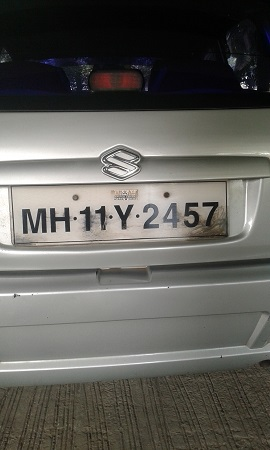licenseplate: (7, 181, 236, 242)
